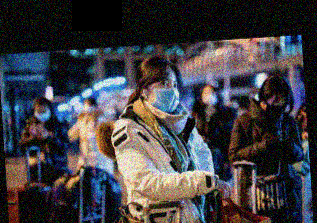with_mask: (149, 75, 181, 113), (263, 96, 289, 117), (200, 87, 220, 105), (33, 106, 52, 124)
